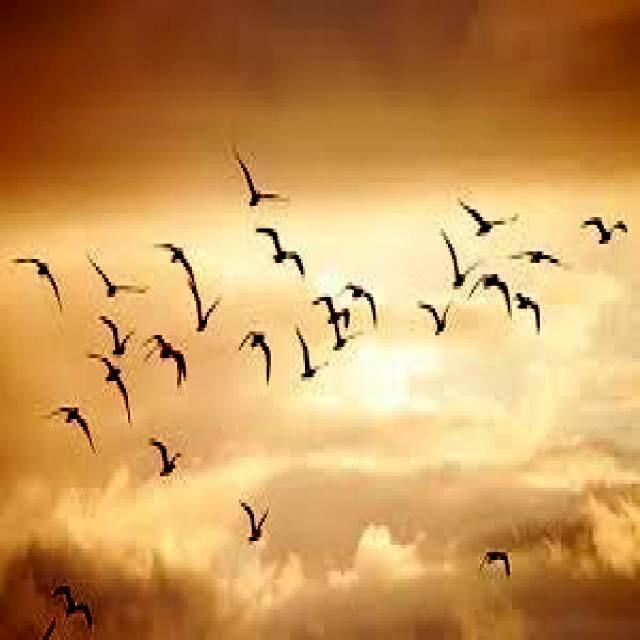bird: (223, 146, 296, 224), (452, 162, 523, 242), (84, 226, 146, 306), (564, 184, 639, 250), (12, 238, 72, 318), (253, 220, 317, 294), (44, 560, 102, 629), (282, 314, 328, 398), (144, 322, 193, 394), (86, 347, 132, 423), (45, 377, 96, 442), (227, 474, 268, 554), (152, 211, 198, 280), (436, 205, 470, 298), (238, 314, 278, 387), (410, 286, 458, 346), (188, 276, 224, 352), (150, 428, 191, 494), (517, 243, 573, 290), (309, 278, 352, 335), (95, 308, 140, 362), (474, 526, 522, 576), (341, 270, 384, 324), (472, 270, 514, 320), (516, 293, 550, 347), (324, 330, 369, 368)
